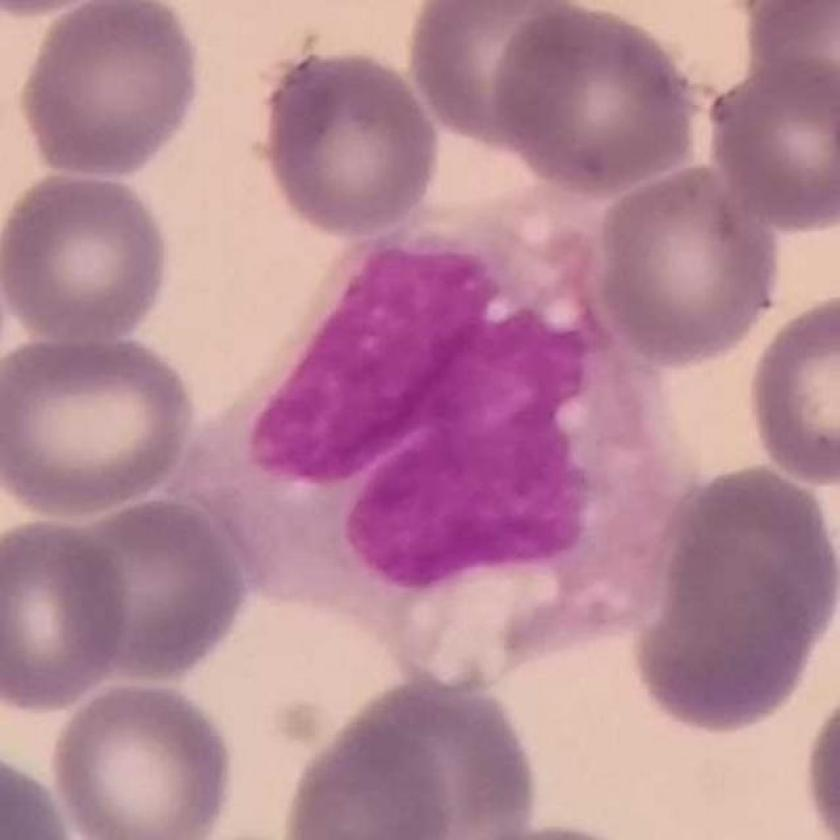monocyte: (170, 177, 693, 686)
